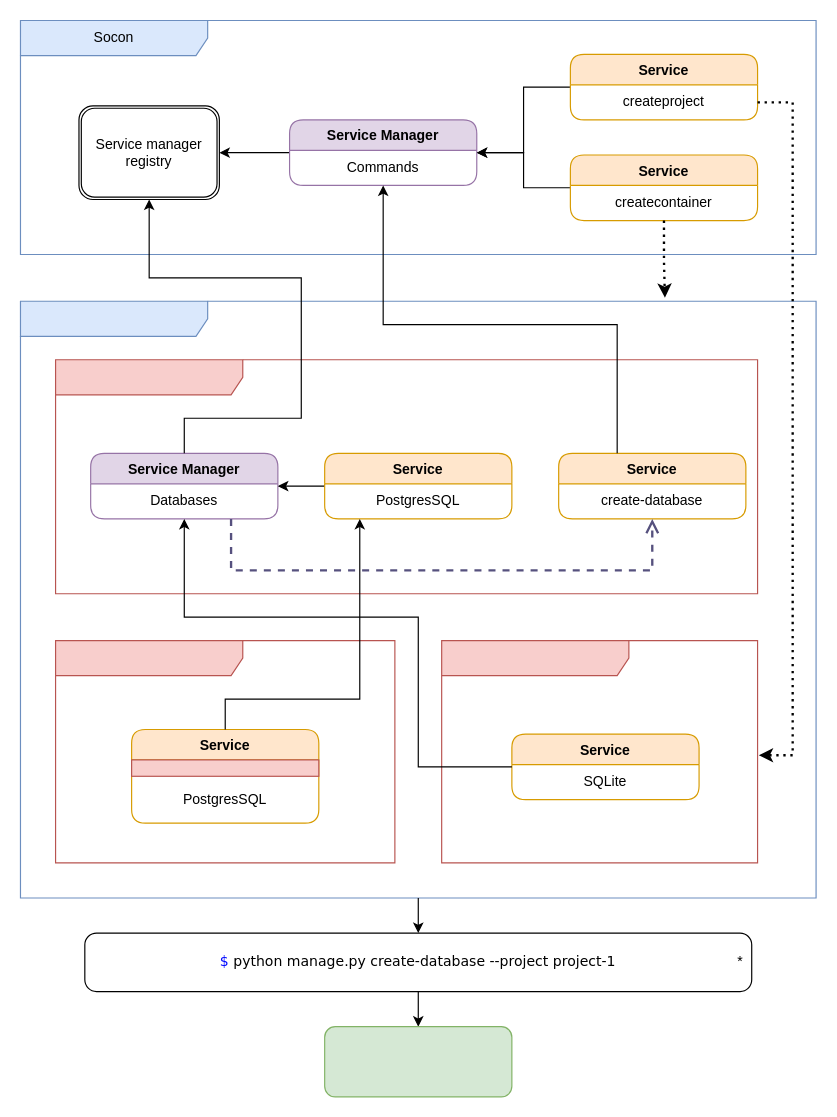
This 837x1117 diagram has some shape labels left out. The box of each missing label's shape, as (x1, y1, x2, y2) in pixels:
Common: (54, 359, 758, 594)
override: (130, 759, 319, 776)
PostgresSQL database is created for the project-1 .: (324, 1026, 512, 1097)
project-1: (54, 639, 395, 863)
project-2: (441, 639, 758, 863)
User Workspace: (19, 300, 816, 898)
